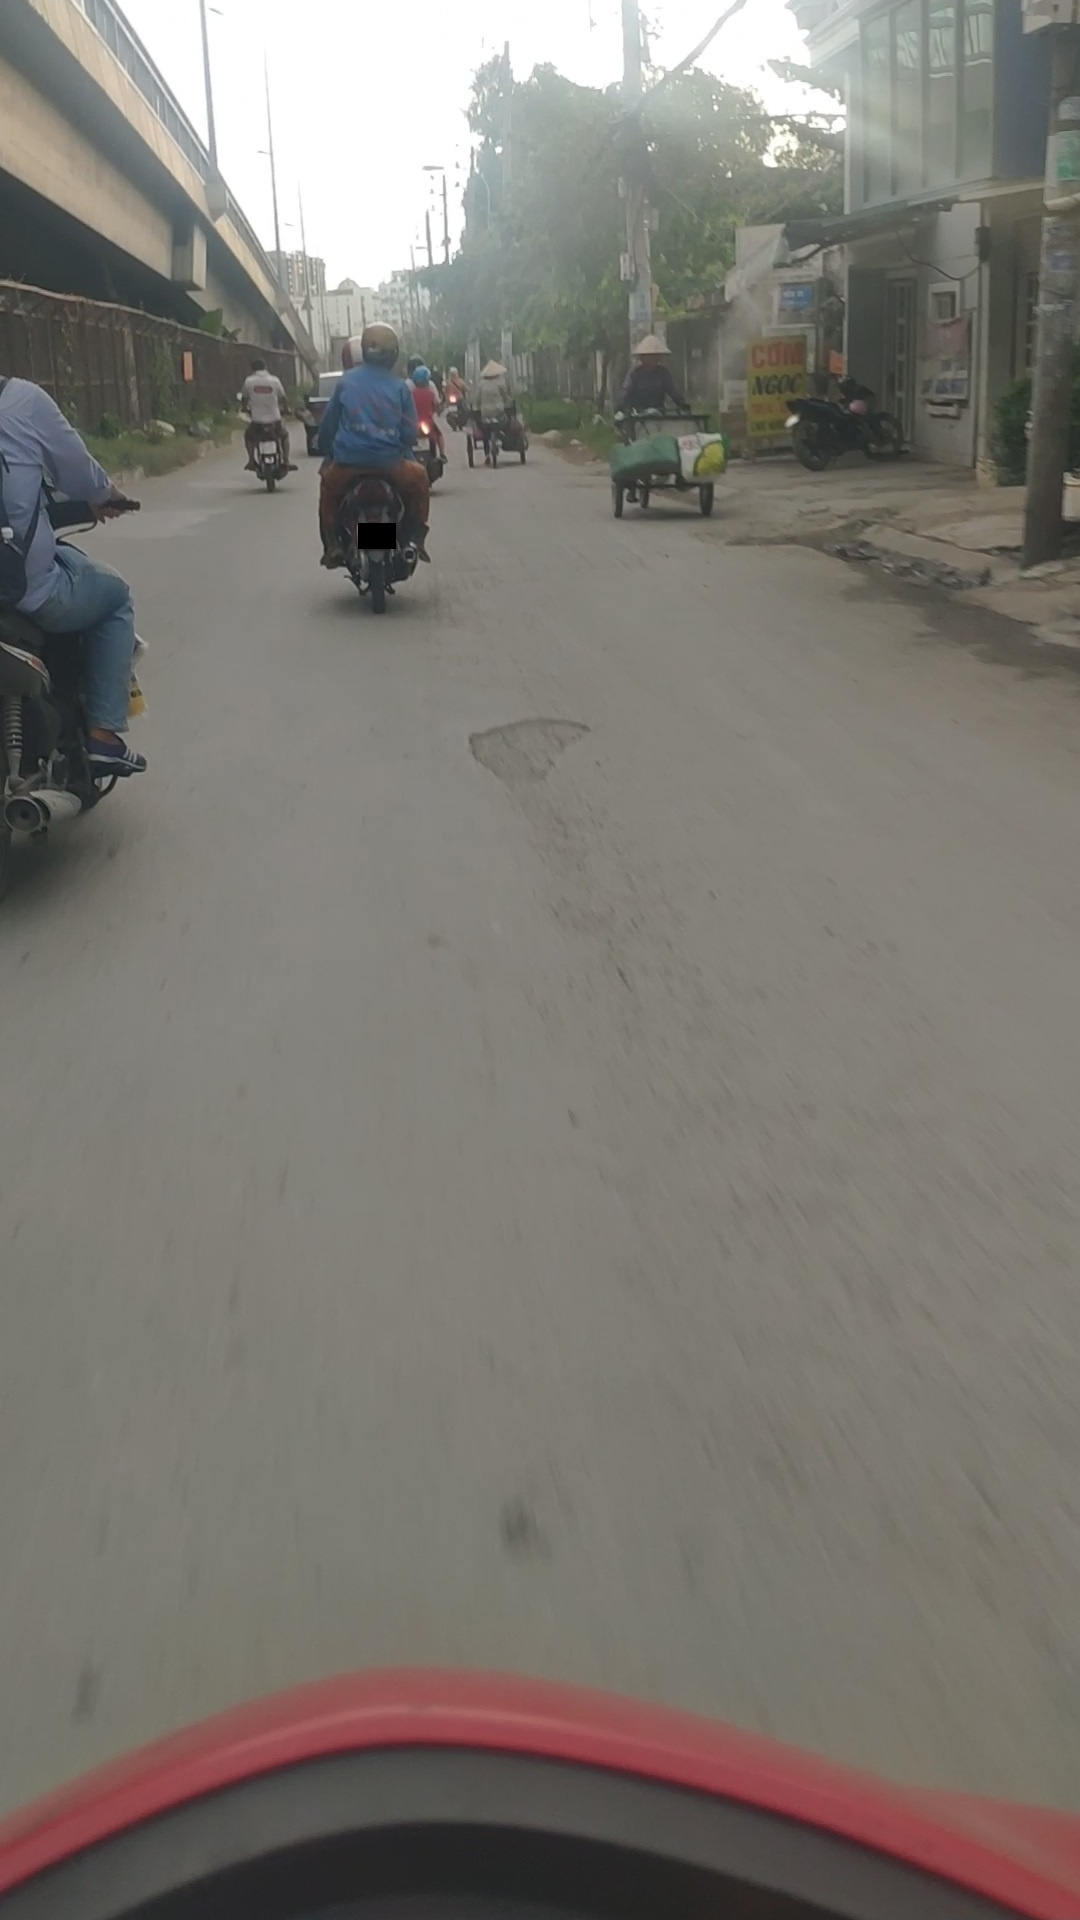hole: (462, 709, 597, 791)
